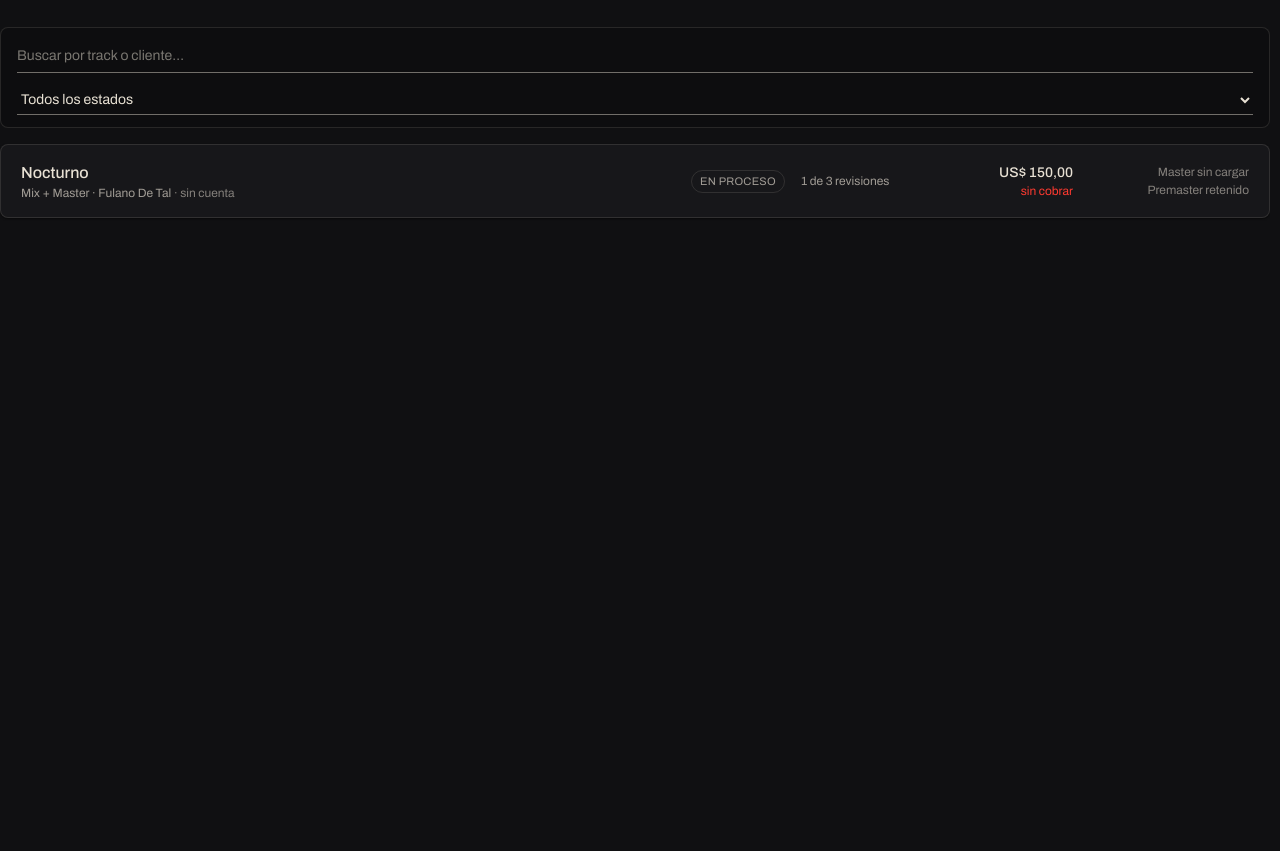
el expediente › Editar abre el formulario, con las notas en una caja de texto
This screenshot has width=1280, height=851.
Click the text "Nocturno".
click(55, 173)  # box top-left (21, 164), bottom-right (89, 181)
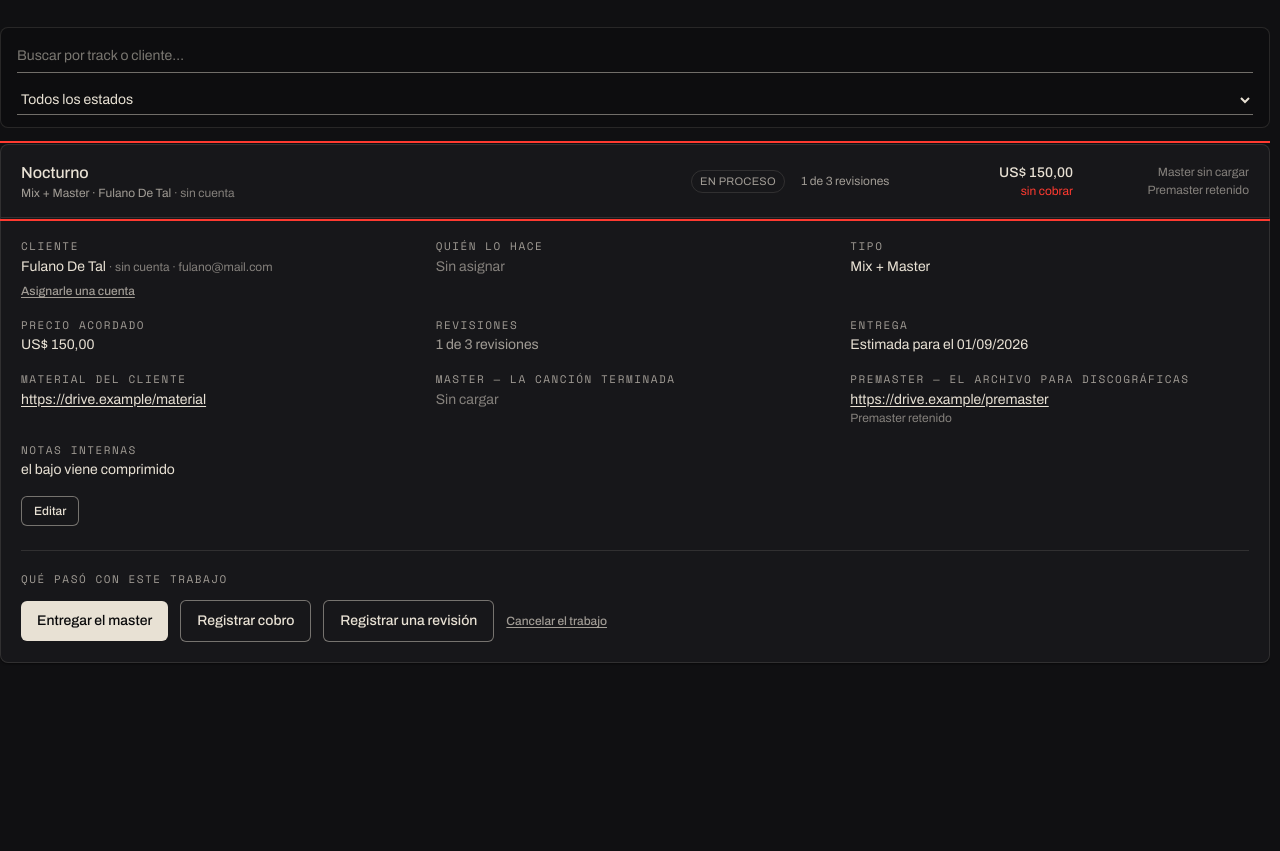
Click the button "Editar".
click(50, 511)  # box top-left (21, 496), bottom-right (79, 526)
(page scrolled)
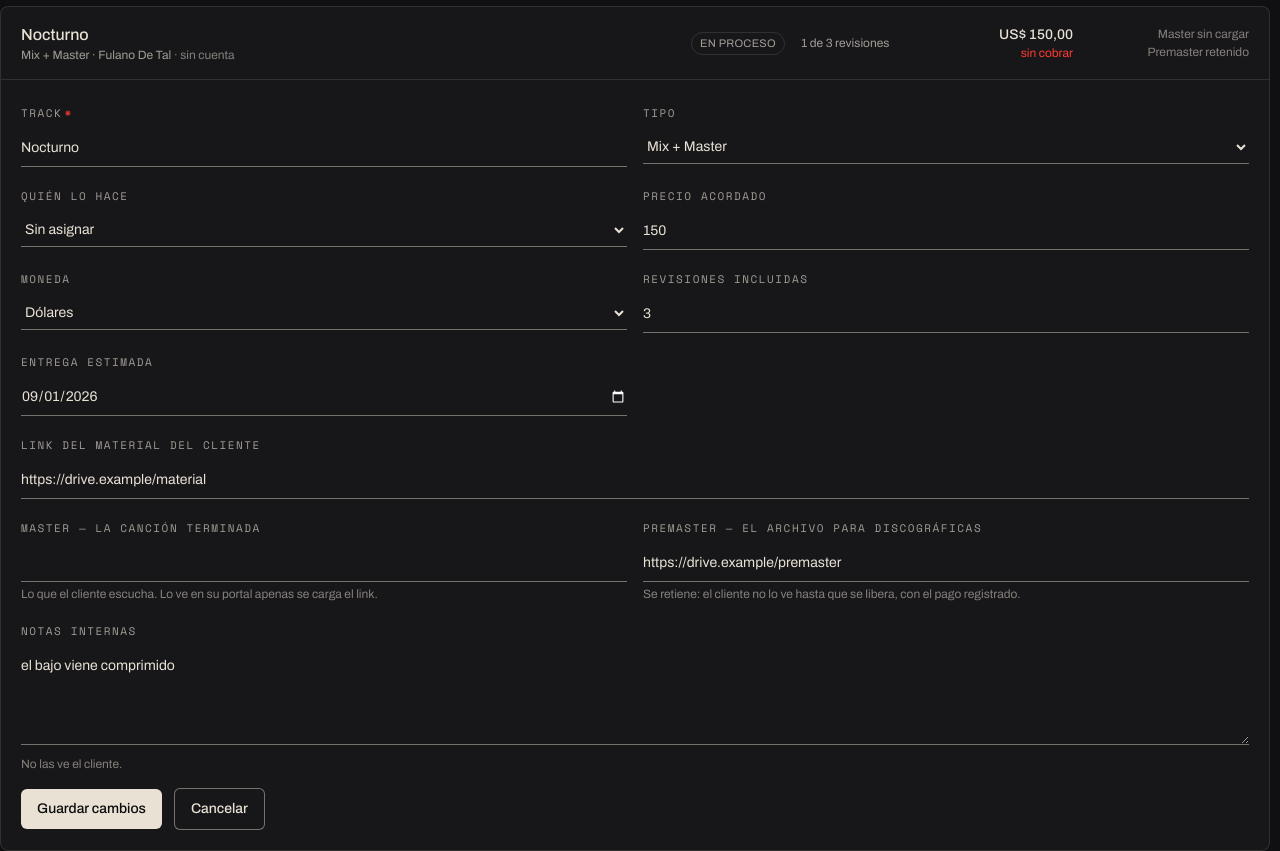
Replace the text in the text box labelled "Notas internas No las ve el cliente." with "ahora sí" at (635, 697), box top-left (21, 648), bottom-right (1249, 745)
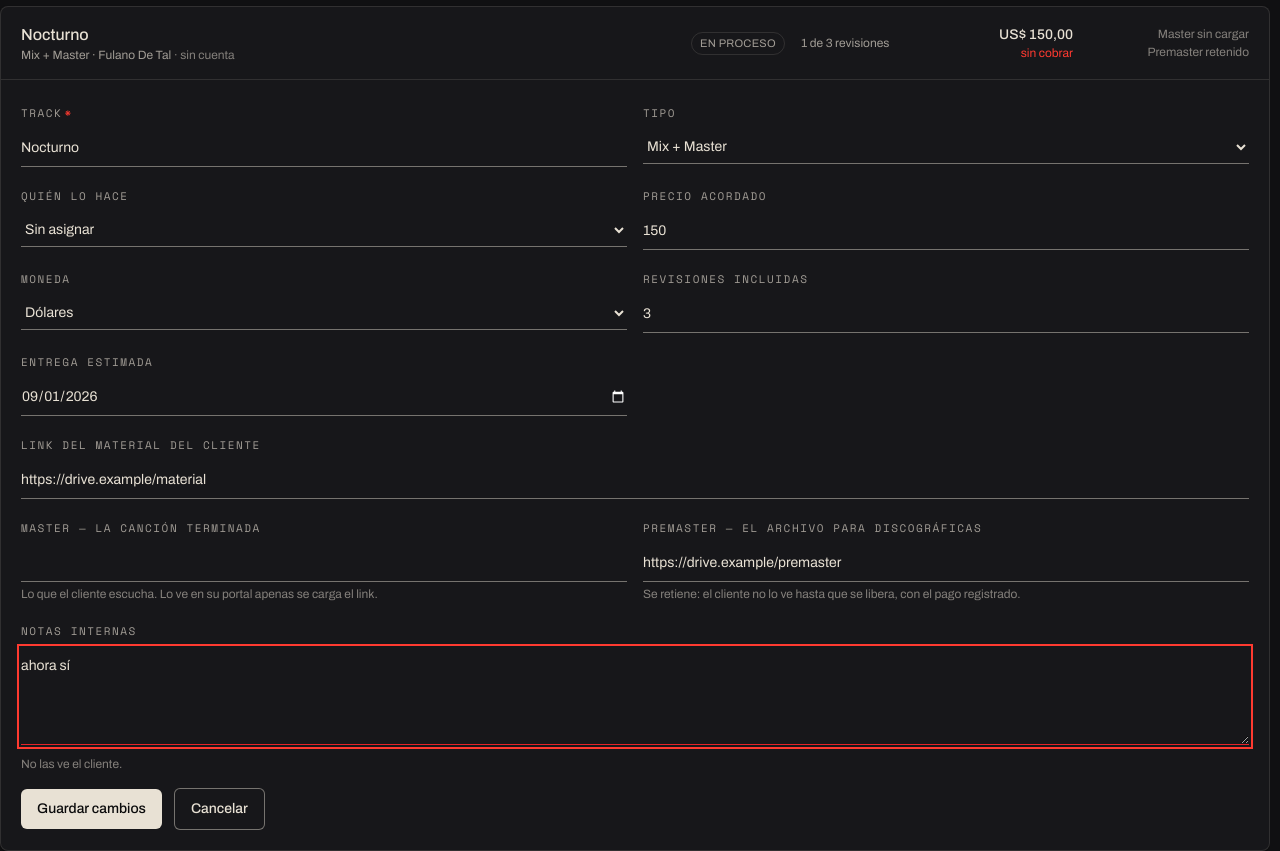
Click the button "Guardar cambios".
click(91, 809)  # box top-left (21, 789), bottom-right (162, 829)
(page scrolled)
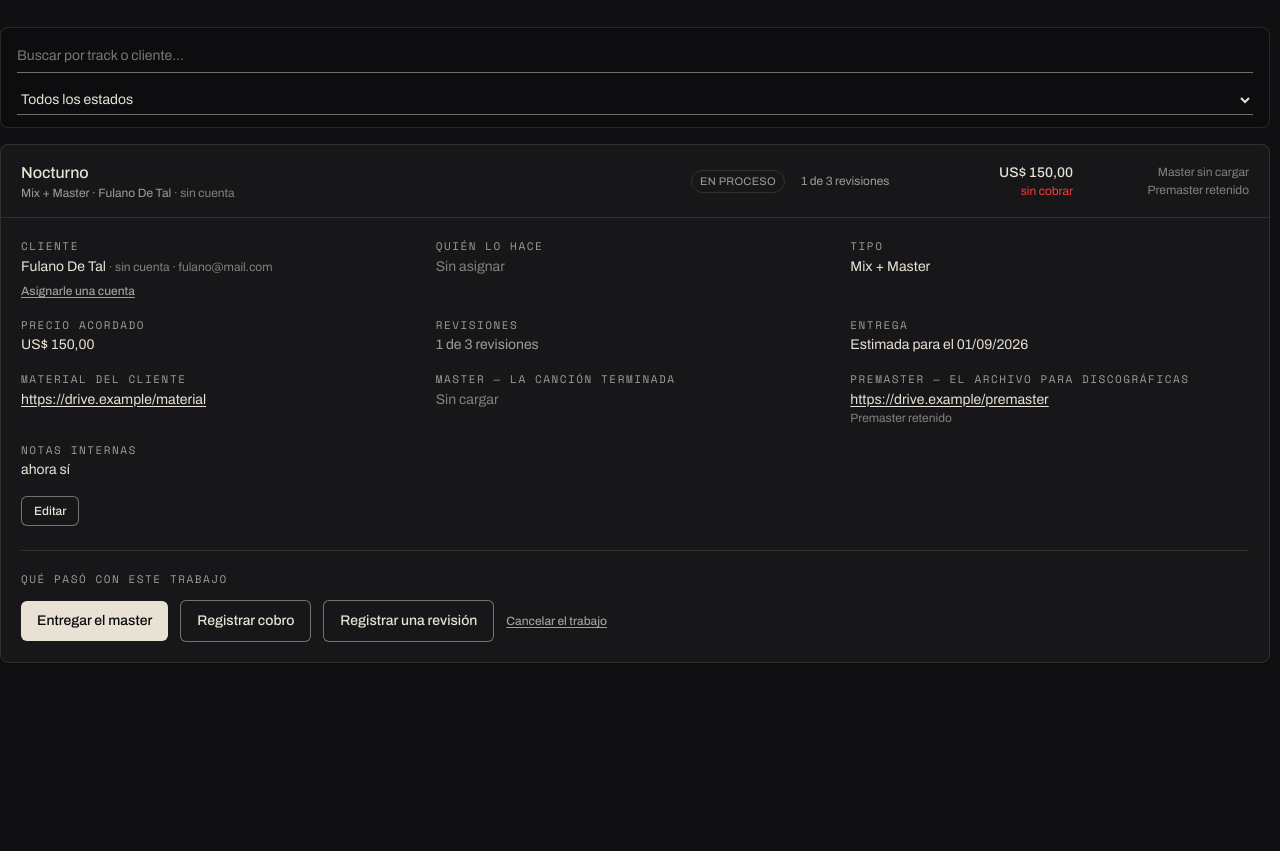
Result: the text "ahora sí" is shown at top-left (21, 462), bottom-right (70, 477)
Result: the button "Guardar cambios" is gone
